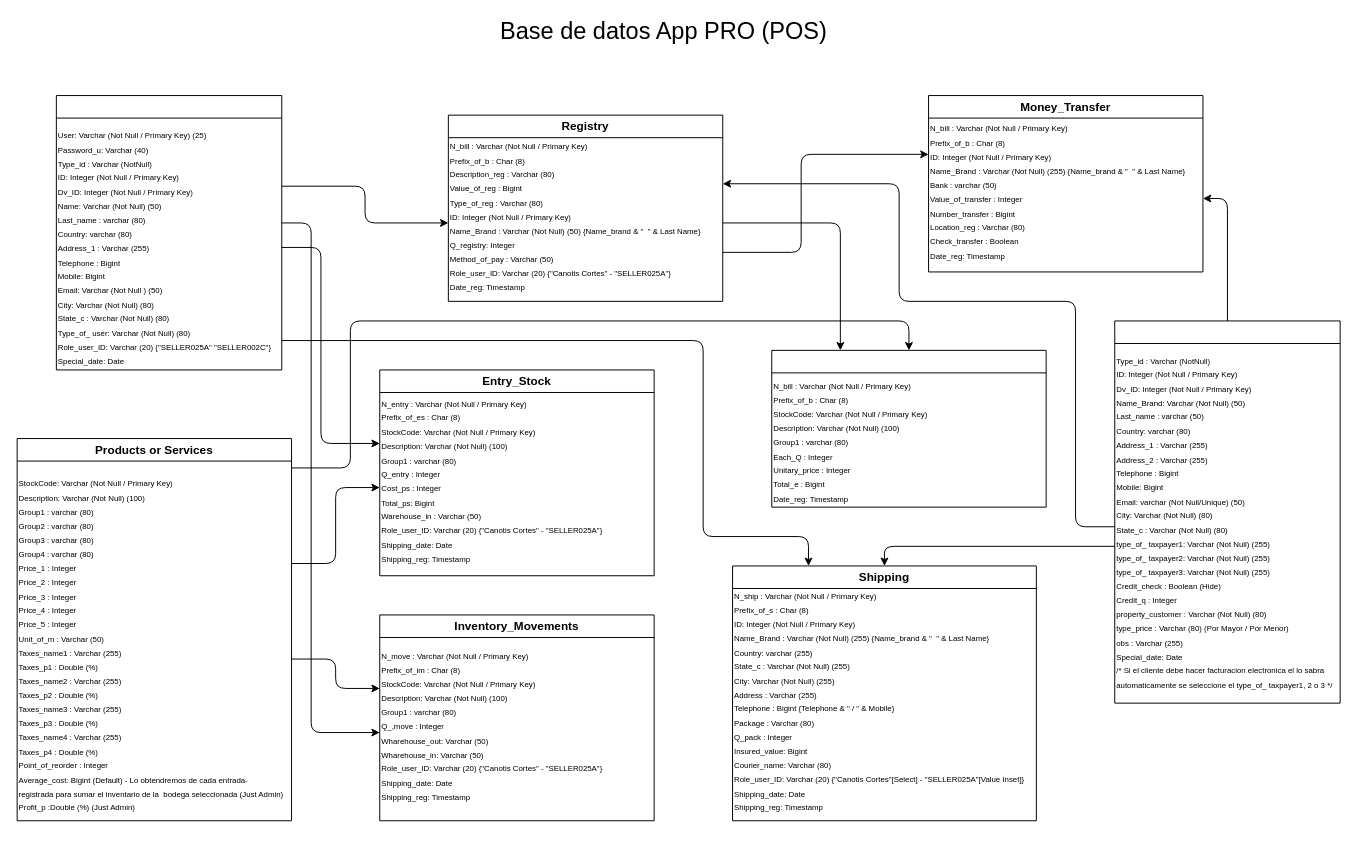
The diagram is 1357 pixels wide and 866 high, and some of its shapes have lost their labels. Each missing label, with the box of its shape:
Customers: (1114, 320, 1340, 703)
Detail_Registration: (771, 349, 1046, 507)
Users: (55, 95, 282, 370)
